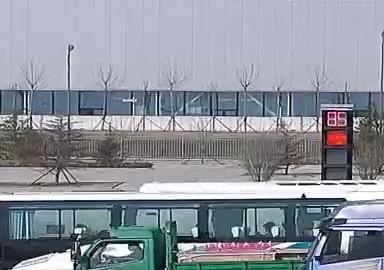red: (326, 130, 346, 146)
redtime: (324, 110, 348, 128)
